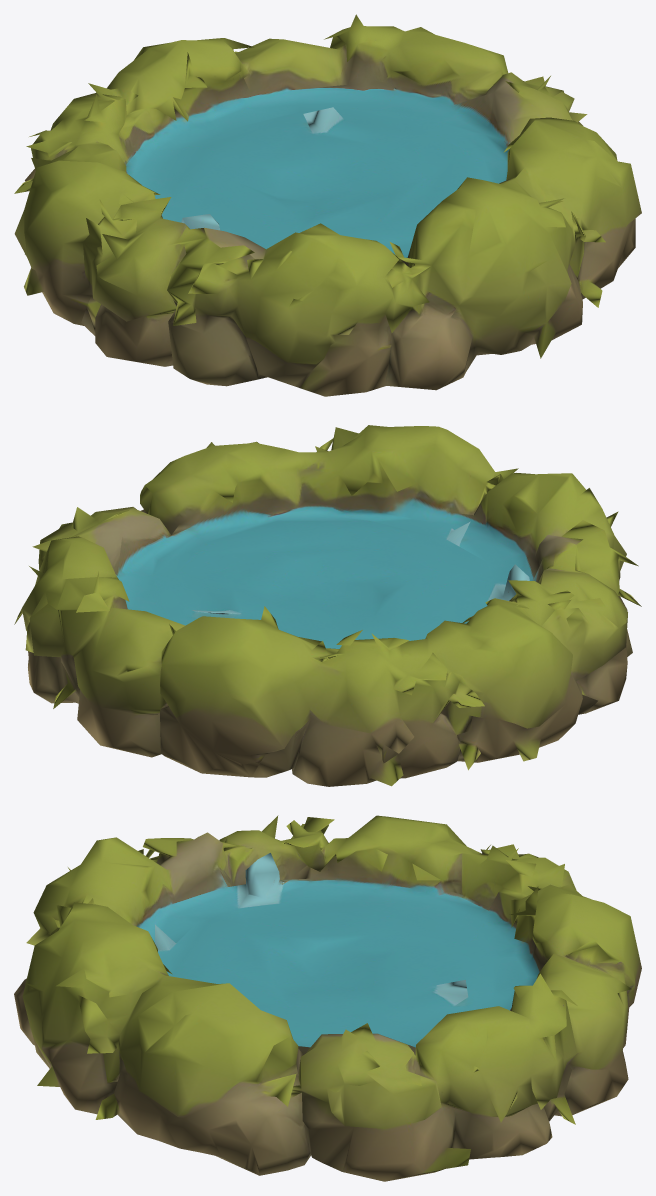
The model's file is spring.glb.
The picture shows the model from 3 angles, top to bottom: view 1: azimuth 30°, elevation 25°; view 2: azimuth 150°, elevation 25°; view 3: azimuth 270°, elevation 25°; orthographic projection. The views are drawn at different scales.
Parts seen in each view (by area): view 1: tripo_node_62bc38ca-cef2-499b-8ad8-03d8a38bdbba; view 2: tripo_node_62bc38ca-cef2-499b-8ad8-03d8a38bdbba; view 3: tripo_node_62bc38ca-cef2-499b-8ad8-03d8a38bdbba.
Boxes of the visible parts, x1=… form: tripo_node_62bc38ca-cef2-499b-8ad8-03d8a38bdbba: x1=14, y1=14, x2=641, y2=396; tripo_node_62bc38ca-cef2-499b-8ad8-03d8a38bdbba: x1=14, y1=425, x2=641, y2=786; tripo_node_62bc38ca-cef2-499b-8ad8-03d8a38bdbba: x1=14, y1=815, x2=641, y2=1181.
Size of the model in its own units: 1.88 by 0.5 by 1.9.
Materials: 1 (1 with a texture image).
